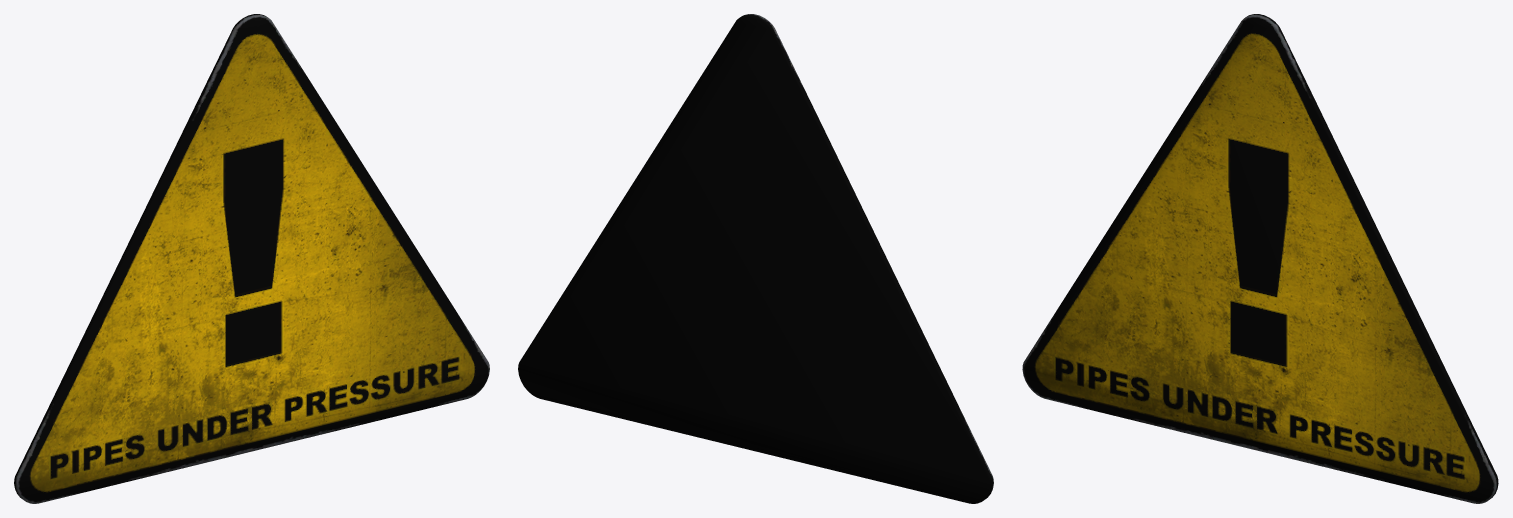
File: sign_triangle_pressure.dae
3 views of the same model, side by side, from view 1: azimuth 30°, elevation 25°; view 2: azimuth 150°, elevation 25°; view 3: azimuth 330°, elevation 25° (orthographic).
Visible parts, largest first — view 1: sign_triangle_pressure; view 2: sign_triangle_pressure; view 3: sign_triangle_pressure.
Part boxes in pixels (box(x1,y1,x2,y2)): sign_triangle_pressure: box(14, 14, 489, 503); sign_triangle_pressure: box(518, 14, 993, 503); sign_triangle_pressure: box(1022, 14, 1498, 503).
Size of the model in its own units: 0.3413 by 0.2994 by 0.00432.
